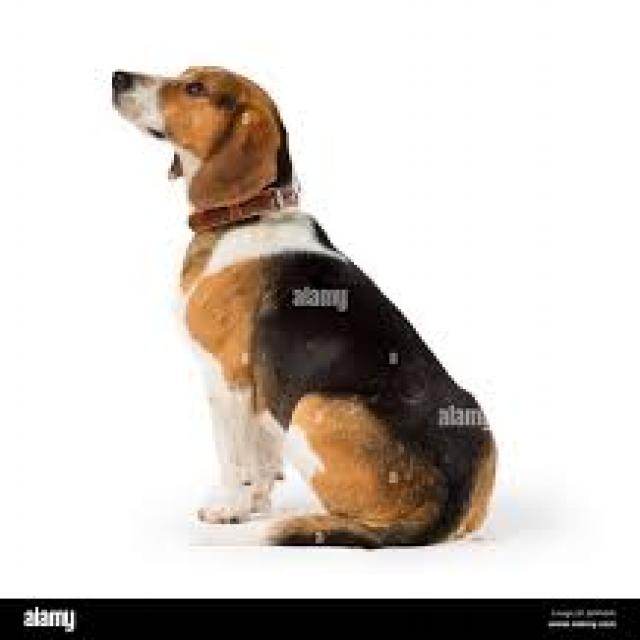Dog: (103, 61, 502, 556)
